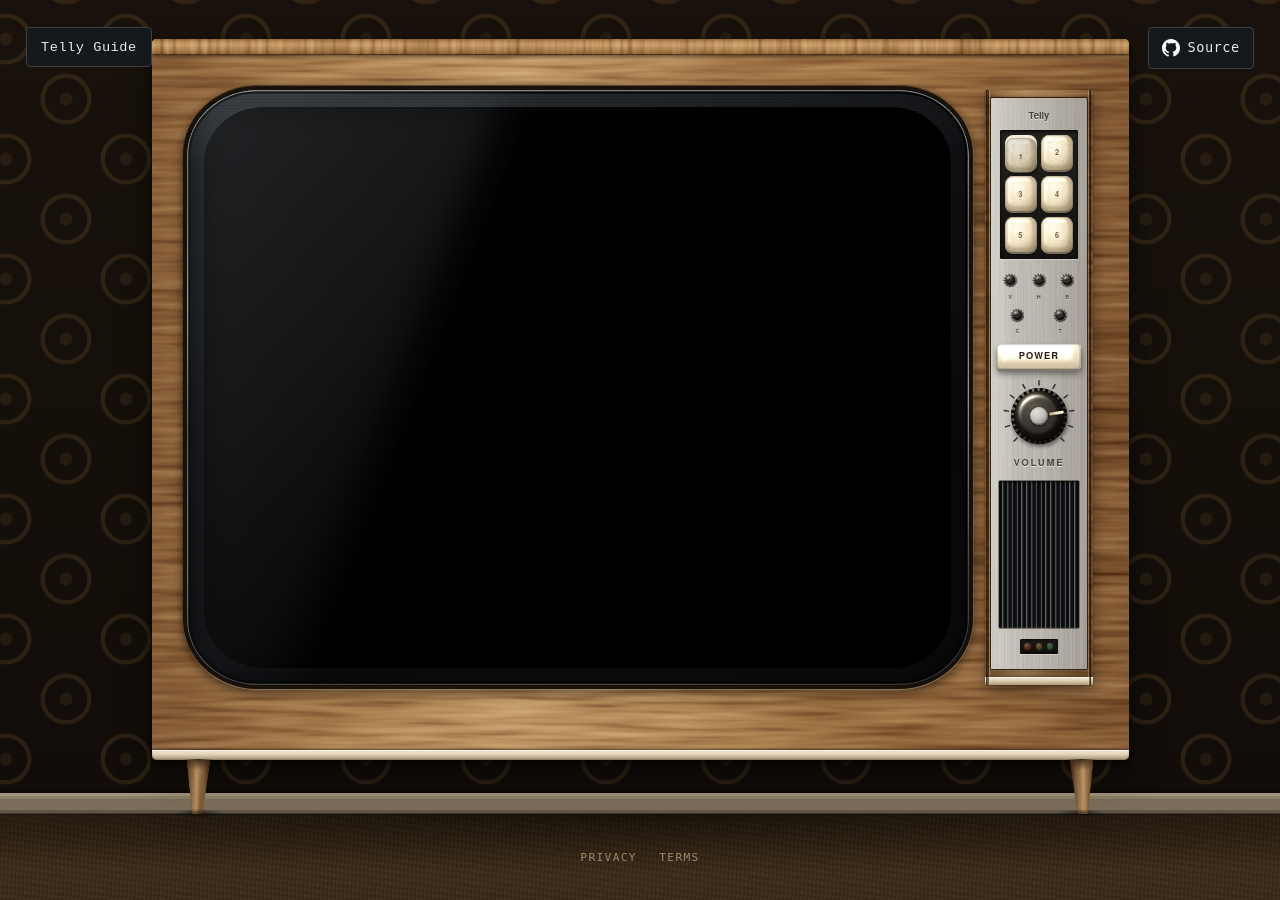
Test: Channel › says why there is nothing on, rather than just showing a card
The image size is (1280, 900).
Click the button "Power": (1039, 356) left=997, top=344, right=1080, bottom=369
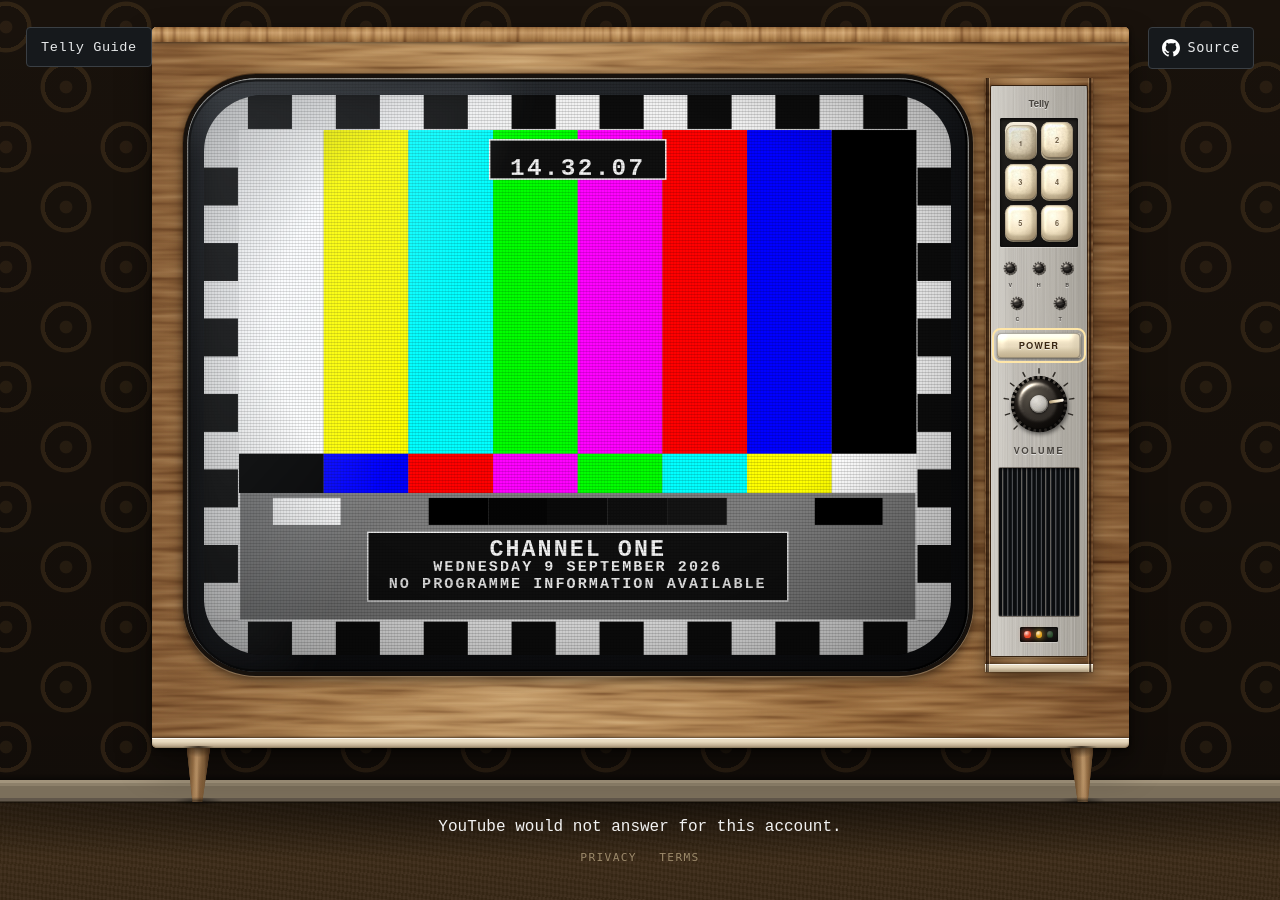
expect the message shows "would not answer": met, box left=438, top=818, right=842, bottom=836
